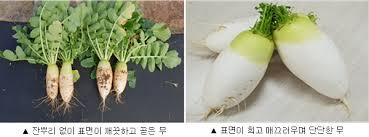radish: (158, 2, 205, 25), (117, 6, 158, 27)
